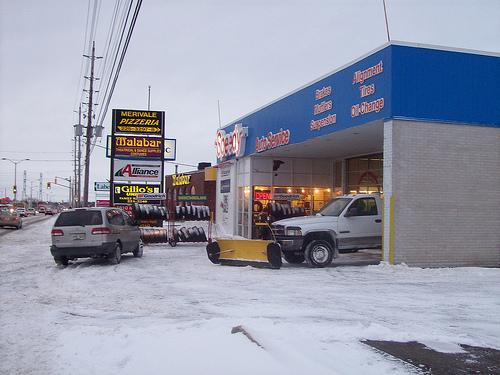truck: (269, 193, 384, 269)
